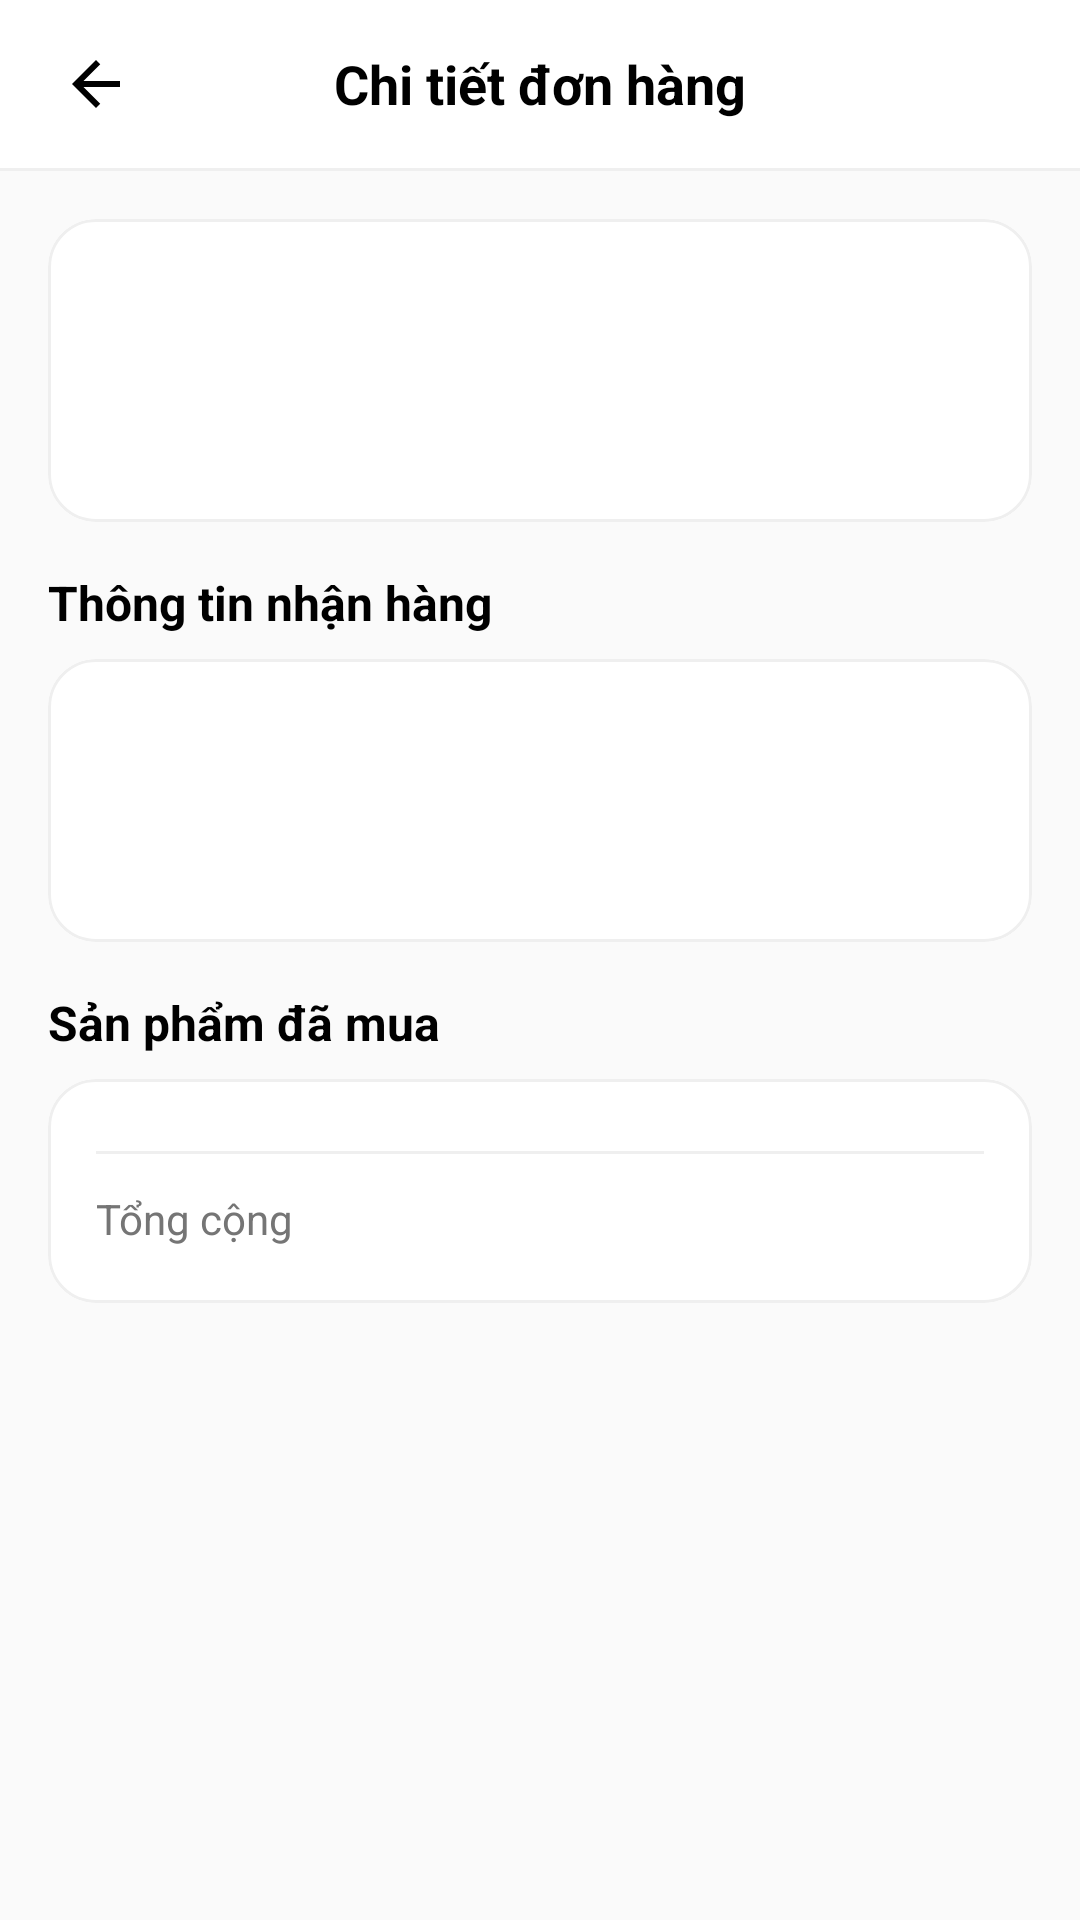

Icon click points for this 1080px x 1920px phone screenshot, format point (x, y):
Quay lại: point (96, 84)
